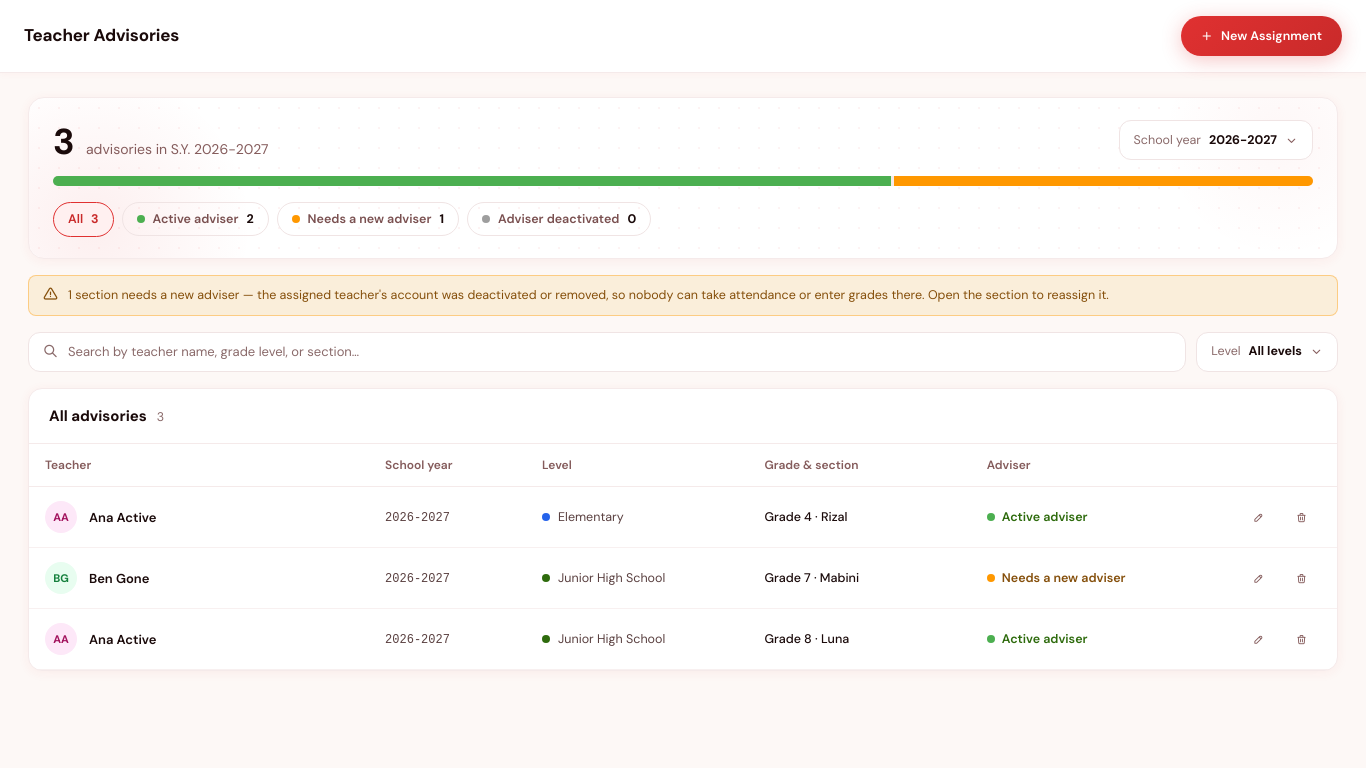
Scenario: Teacher advisories — band › searches by teacher name without changing the band
Expected: the text "Grade 4 · Rizal" is shown, [764,509,847,525]
Type "ben" into the search field named "search advisories" at (620, 352), box [68,342,1171,362]
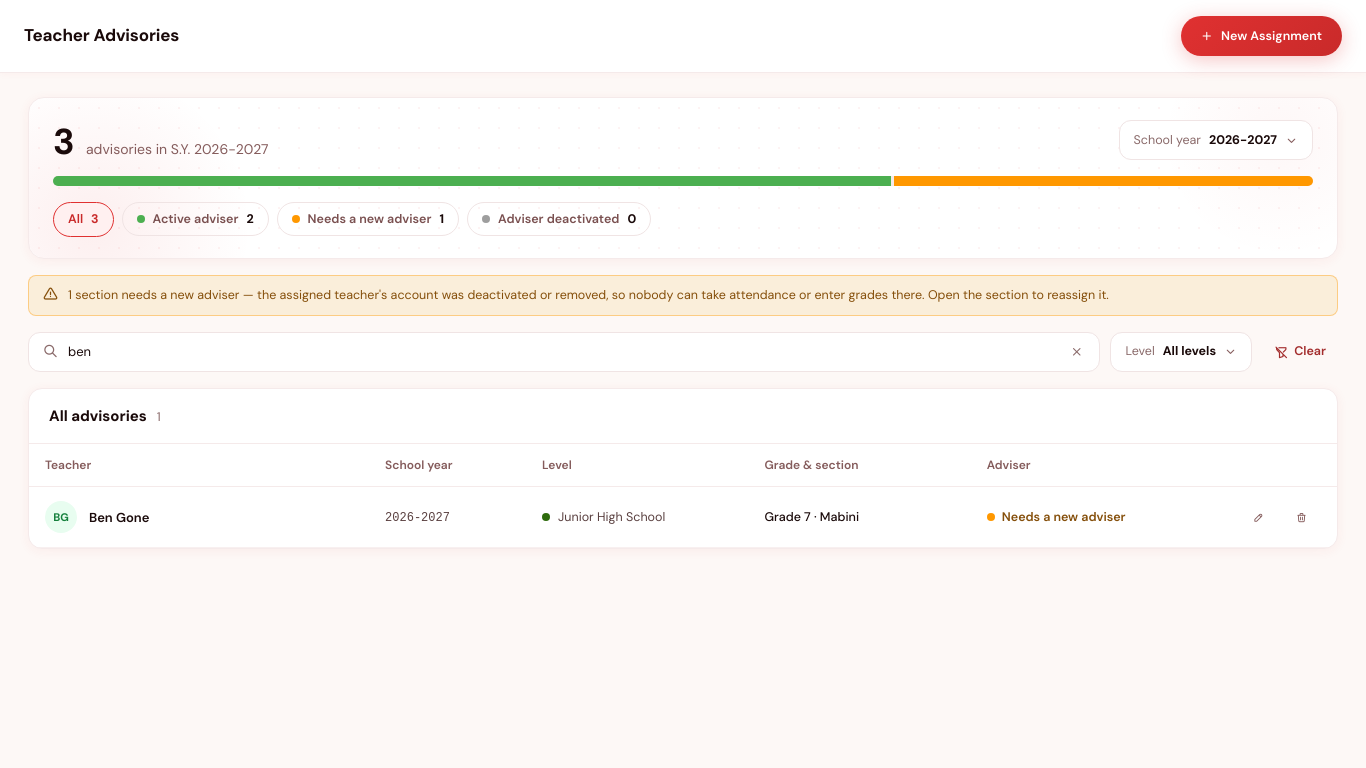
Expected: the text "Grade 7 · Mabini" is shown, [764,509,859,525]
Now the button "Grade 4 · Rizal" is gone
